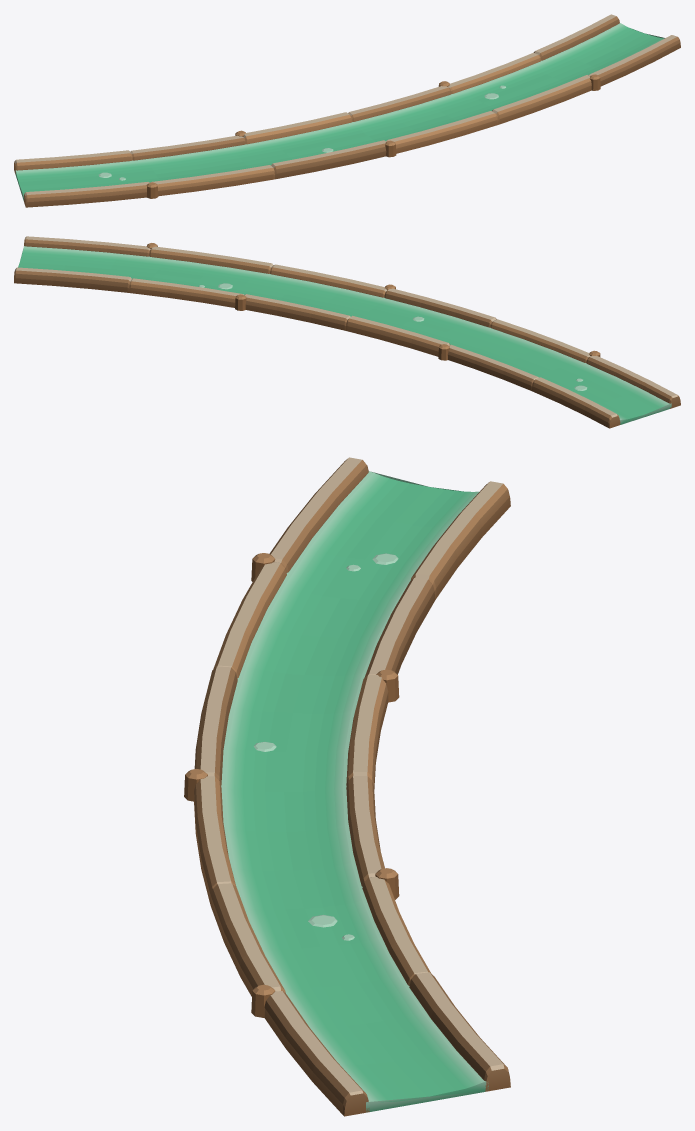
The model's file is parade_lane_arc45.fbx.
3 views of the same model, one above another, from view 1: azimuth 30°, elevation 25°; view 2: azimuth 150°, elevation 25°; view 3: azimuth 270°, elevation 25° (orthographic). The views are drawn at different scales.
Visible parts, largest first — view 1: parade_lane_arc45; view 2: parade_lane_arc45; view 3: parade_lane_arc45.
Part boxes in pixels (x1,y1,x2,y2): parade_lane_arc45: [14, 14, 680, 207]; parade_lane_arc45: [14, 236, 680, 428]; parade_lane_arc45: [184, 457, 510, 1116].
Size of the model in its own units: 54.53 by 1 by 11.78.
